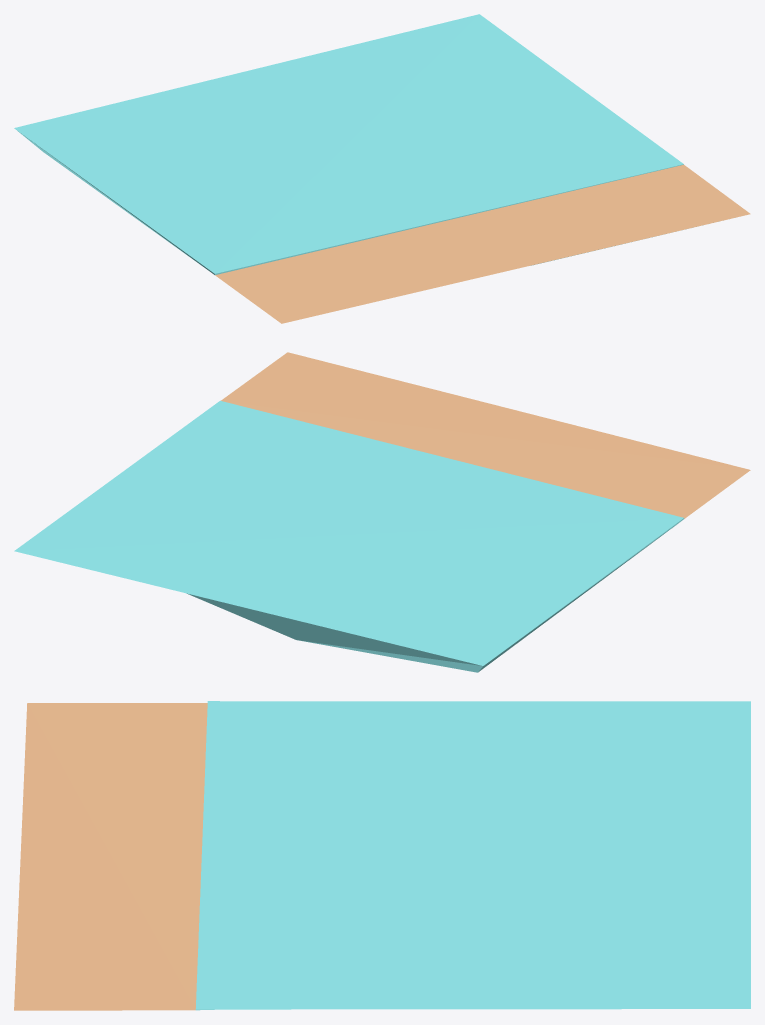
The picture shows the model from 3 angles, top to bottom: view 1: azimuth 30°, elevation 25°; view 2: azimuth 150°, elevation 25°; view 3: azimuth 270°, elevation 25°; orthographic projection. The views are drawn at different scales.
Visible parts, largest first — view 1: Object001; view 2: Object001; view 3: Object001.
Part boxes in pixels (x1=…): Object001: x1=14, y1=14, x2=750, y2=323; Object001: x1=14, y1=352, x2=750, y2=672; Object001: x1=14, y1=701, x2=750, y2=1010.
Size of the model in its own units: 172 by 19.72 by 174.
